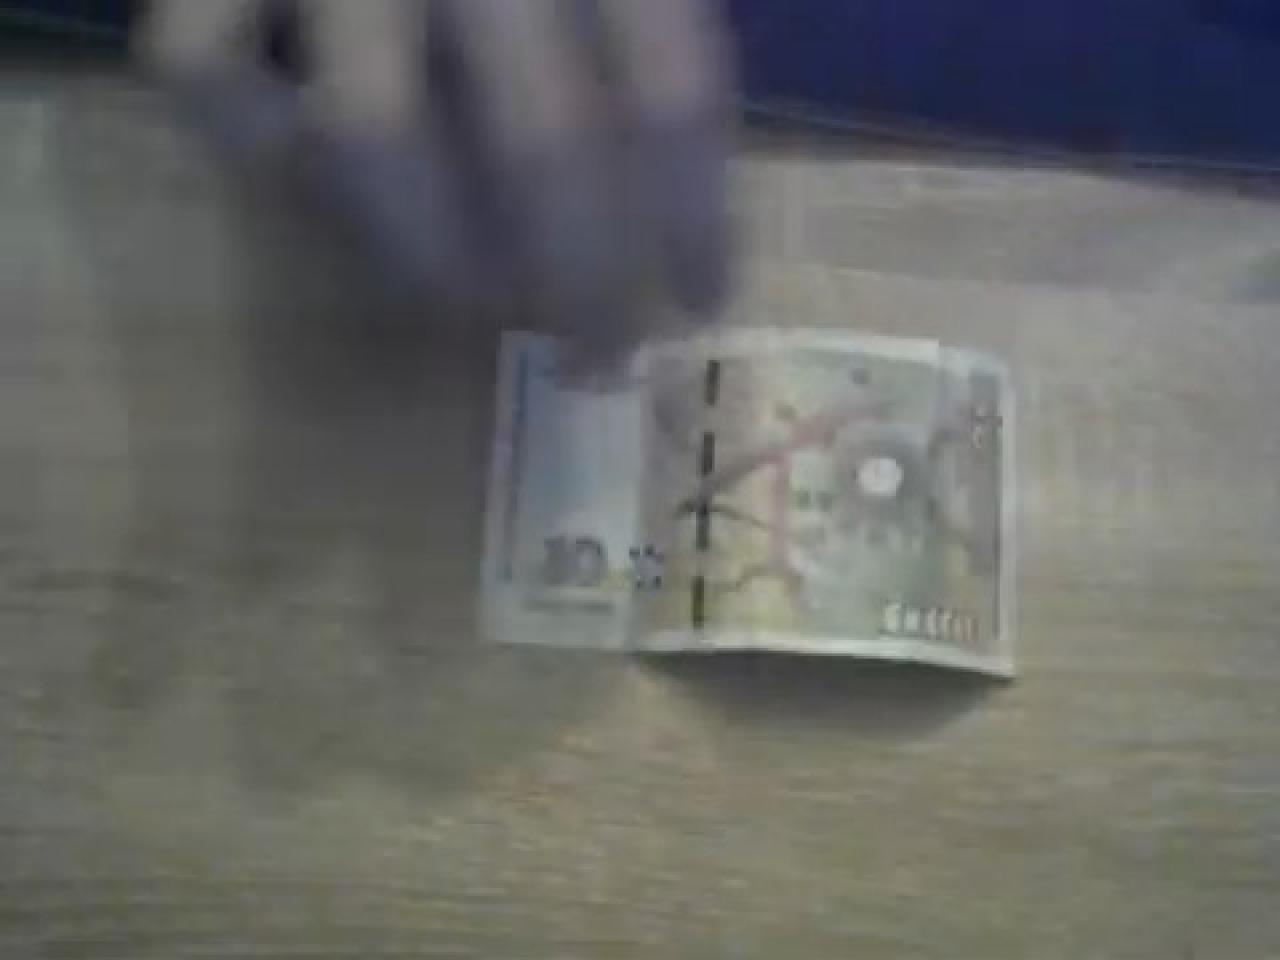10leva: (485, 328, 1032, 680)
